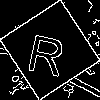R: (25, 25, 70, 77)
